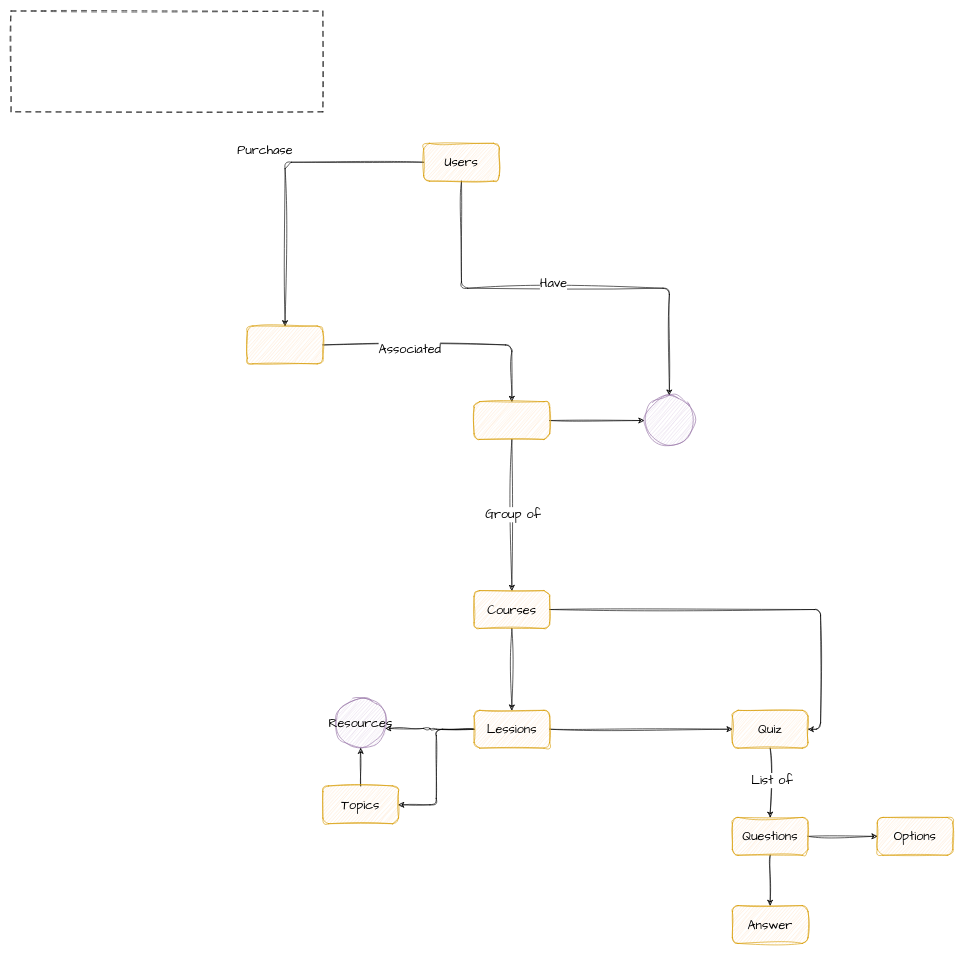
This 964x954 diagram has some shape labels left out. Here are the shapes that lost their labels. From the top down, the centre of each, then its label:
(x=166, y=61): Functional Decomposition & High Level Entity flow
(x=285, y=344): Subscription
(x=511, y=420): Plans
(x=669, y=420): Permissions
